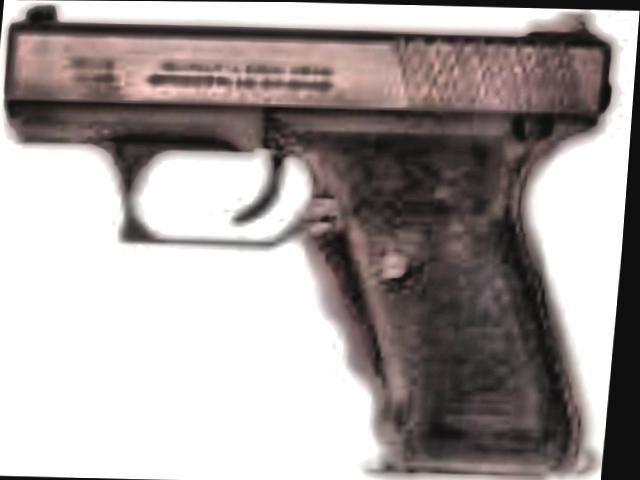pistol: (0, 0, 620, 477)
